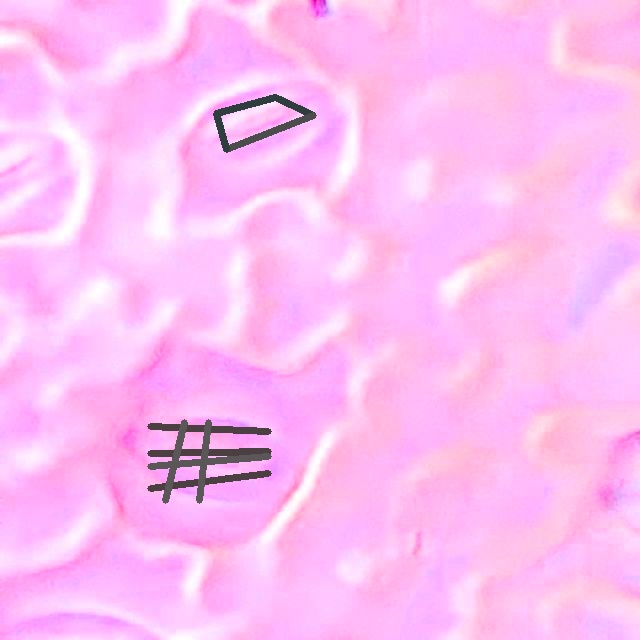open: (148, 420, 271, 503), (213, 94, 316, 152)
